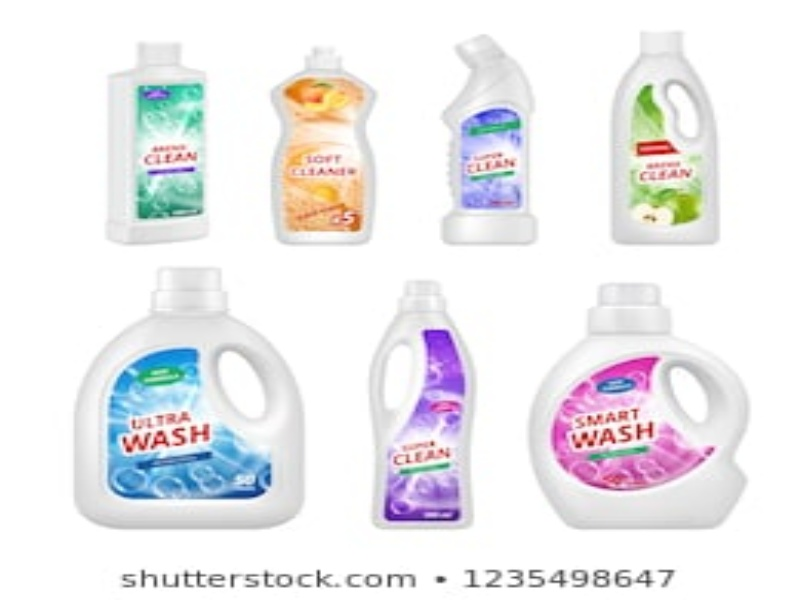detergent-bottle: (70, 264, 318, 530), (524, 280, 756, 532), (363, 279, 476, 533), (606, 29, 729, 247), (265, 43, 383, 246), (101, 36, 215, 245), (439, 33, 549, 247)
